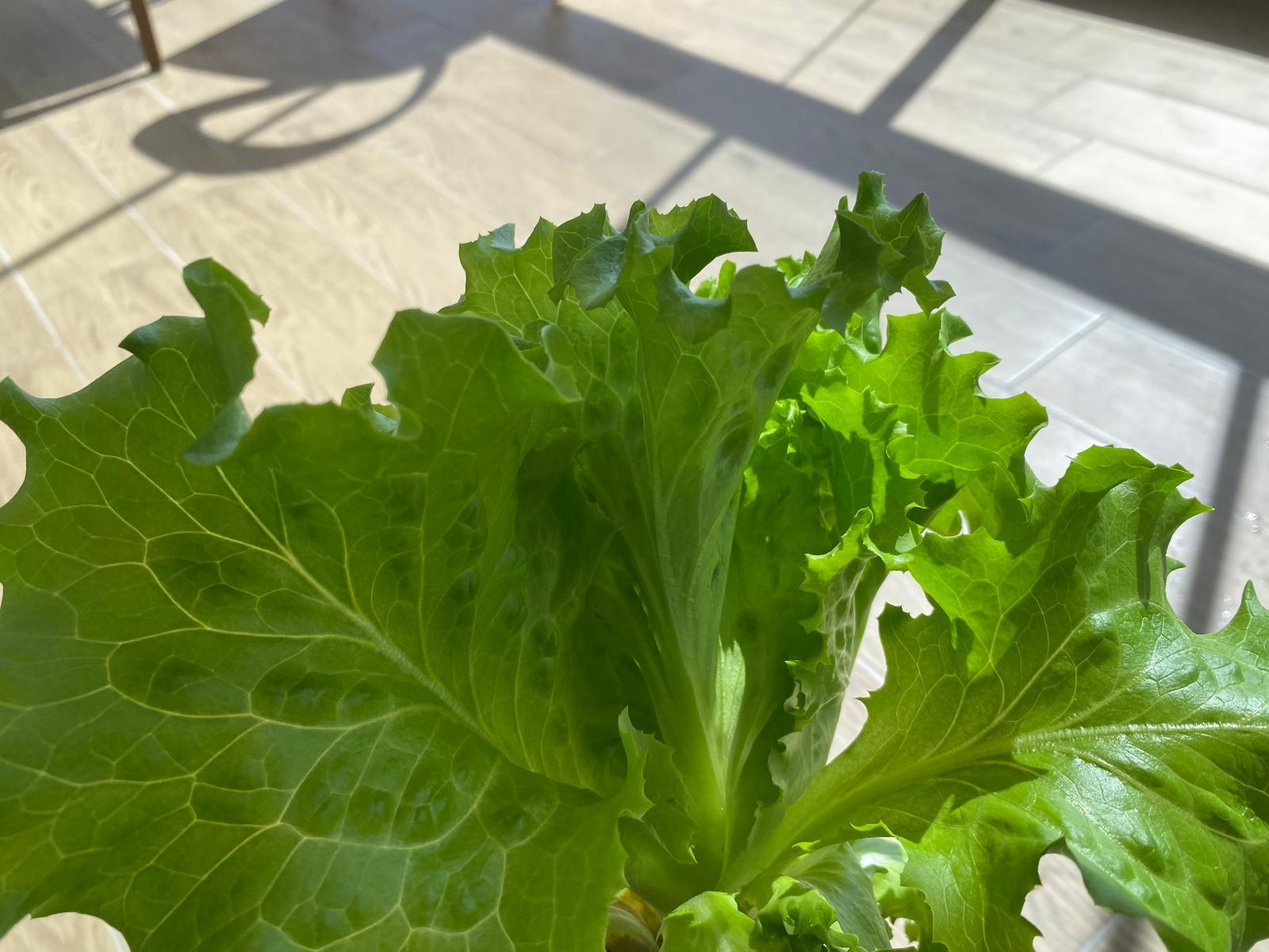Healthy: (0, 169, 1269, 952)
